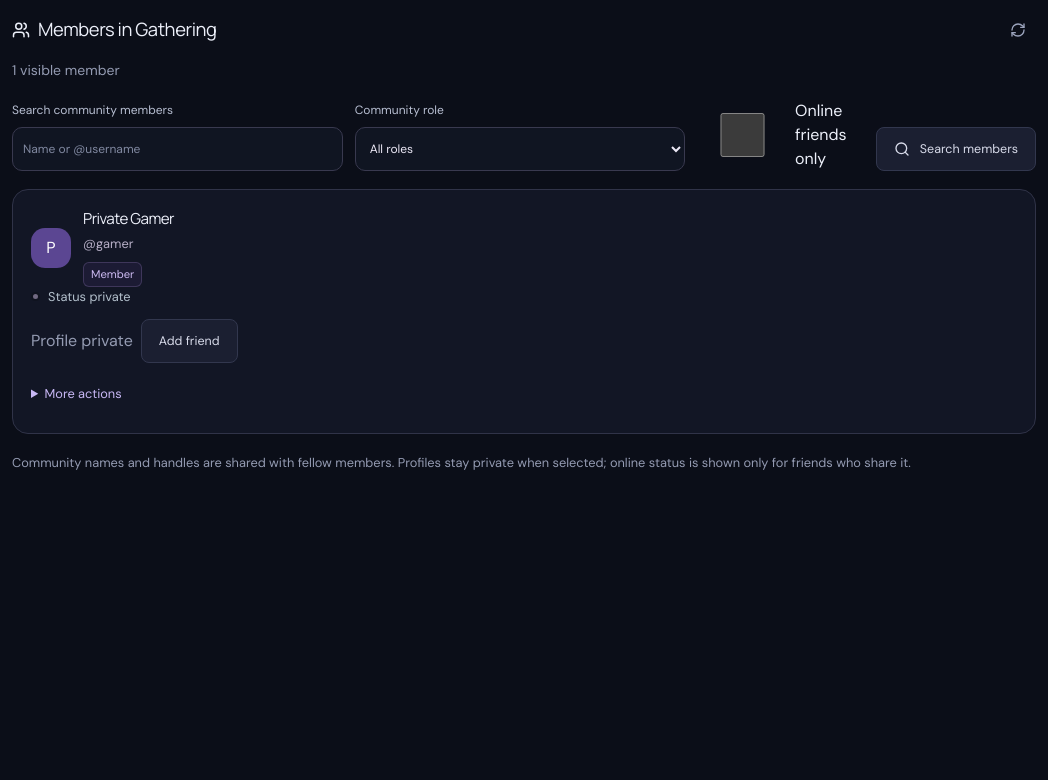
Test case: keeps private profiles and presence private while offering a real friend request
Check: the heading "Private Gamer" is shown, box [83,208,174,229]
Check: the text "Status private" is shown, box [31,288,130,305]
What coordinates should you click on to do the following:
click the button "Add friend"
I would click on:
 (189, 341)
Its box is [141,319,238,363].
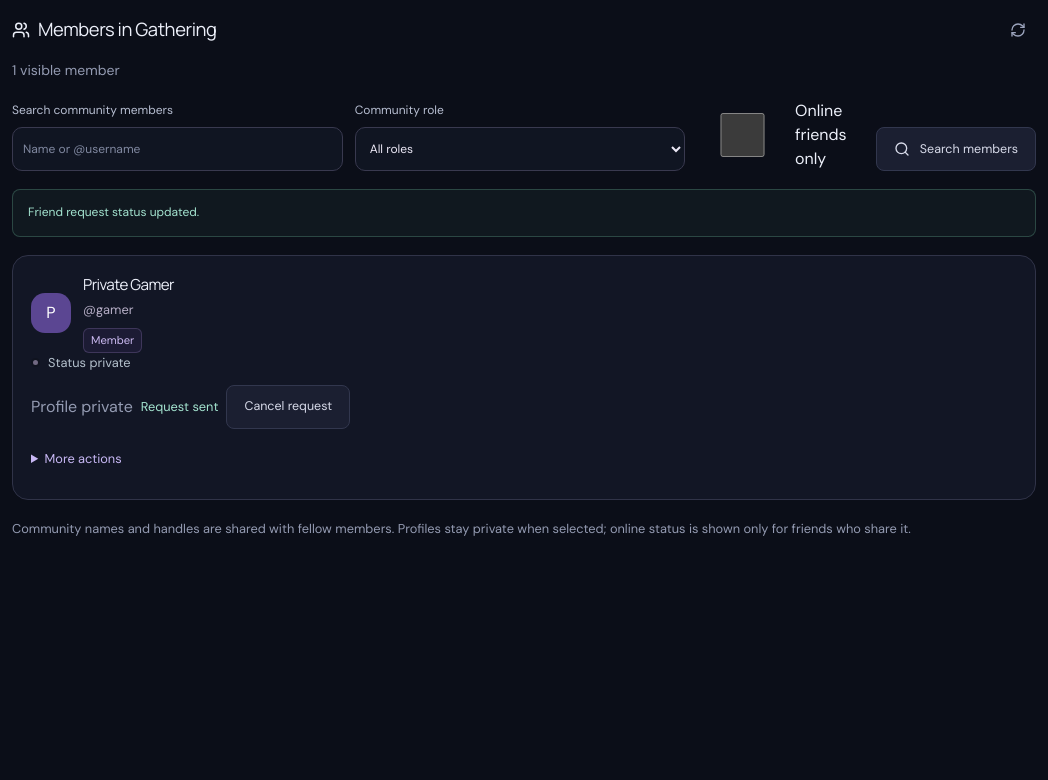
Check: the text "Request sent" is shown, box [141,397,218,416]
